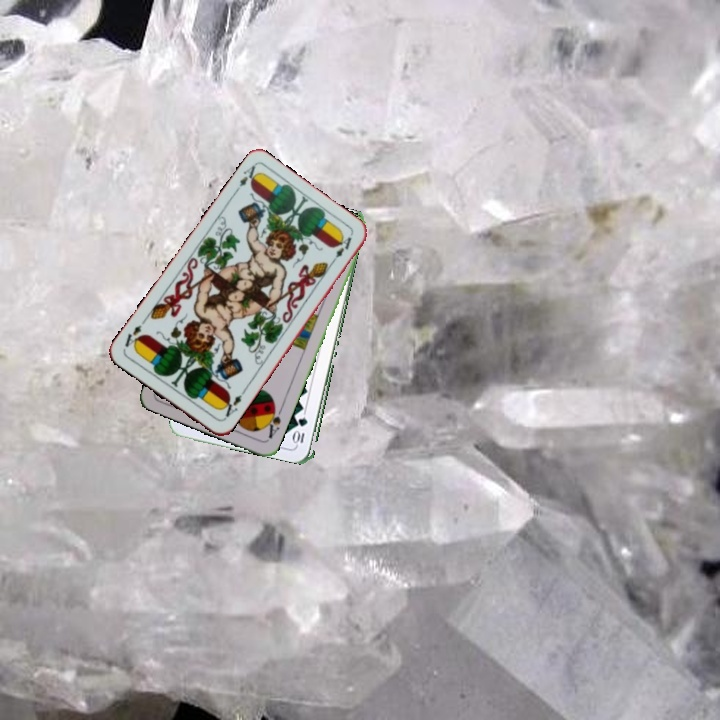EA: (230, 161, 262, 197), (217, 386, 248, 422)
G10: (292, 413, 310, 447)
SA: (261, 401, 285, 441)
